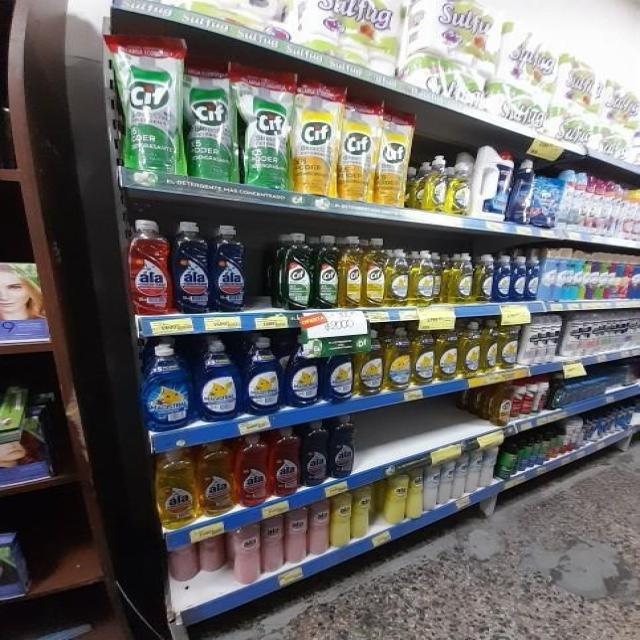ala_conc_amarillo: (155, 449, 196, 527), (198, 440, 234, 516)
ala_conc_azul: (173, 220, 210, 315), (212, 224, 248, 313), (301, 420, 328, 487), (329, 415, 356, 479)
ala_conc_rojo: (125, 218, 170, 317), (236, 433, 269, 506), (270, 427, 301, 496)
ala_crem_amarillo: (384, 473, 407, 524), (331, 492, 351, 548), (352, 486, 372, 540), (407, 468, 422, 519)
ala_crem_blanco: (424, 465, 439, 512), (440, 461, 453, 505)
ala_crem_rosado: (232, 524, 260, 584), (261, 516, 284, 572), (285, 508, 307, 564), (308, 501, 329, 555)
cif_conc_bot_amarilla: (339, 235, 362, 309), (363, 237, 384, 308)
cif_conc_botella_verde: (278, 232, 312, 311), (314, 234, 338, 310)
cif_conc_sachet_amarillo: (292, 78, 337, 197), (338, 98, 376, 203), (377, 106, 410, 206)
cif_conc_sachet_verde: (120, 36, 183, 176), (186, 58, 237, 182), (239, 66, 290, 189)
magistral_con_amarillo: (355, 328, 383, 397), (384, 326, 411, 391), (409, 250, 436, 306), (446, 253, 474, 304), (412, 324, 435, 386), (386, 247, 408, 308), (436, 322, 458, 381), (459, 321, 480, 377), (499, 318, 519, 369), (474, 254, 493, 304), (481, 320, 498, 373)
magistral_con_azul: (142, 343, 193, 432), (196, 339, 240, 422), (243, 336, 282, 414), (286, 335, 322, 407), (324, 332, 353, 403), (494, 254, 511, 303), (512, 254, 526, 302)
